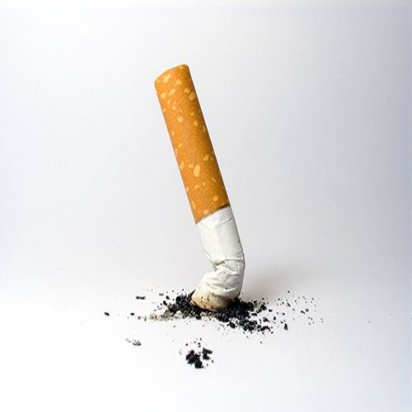cigarette: (144, 57, 258, 333)
